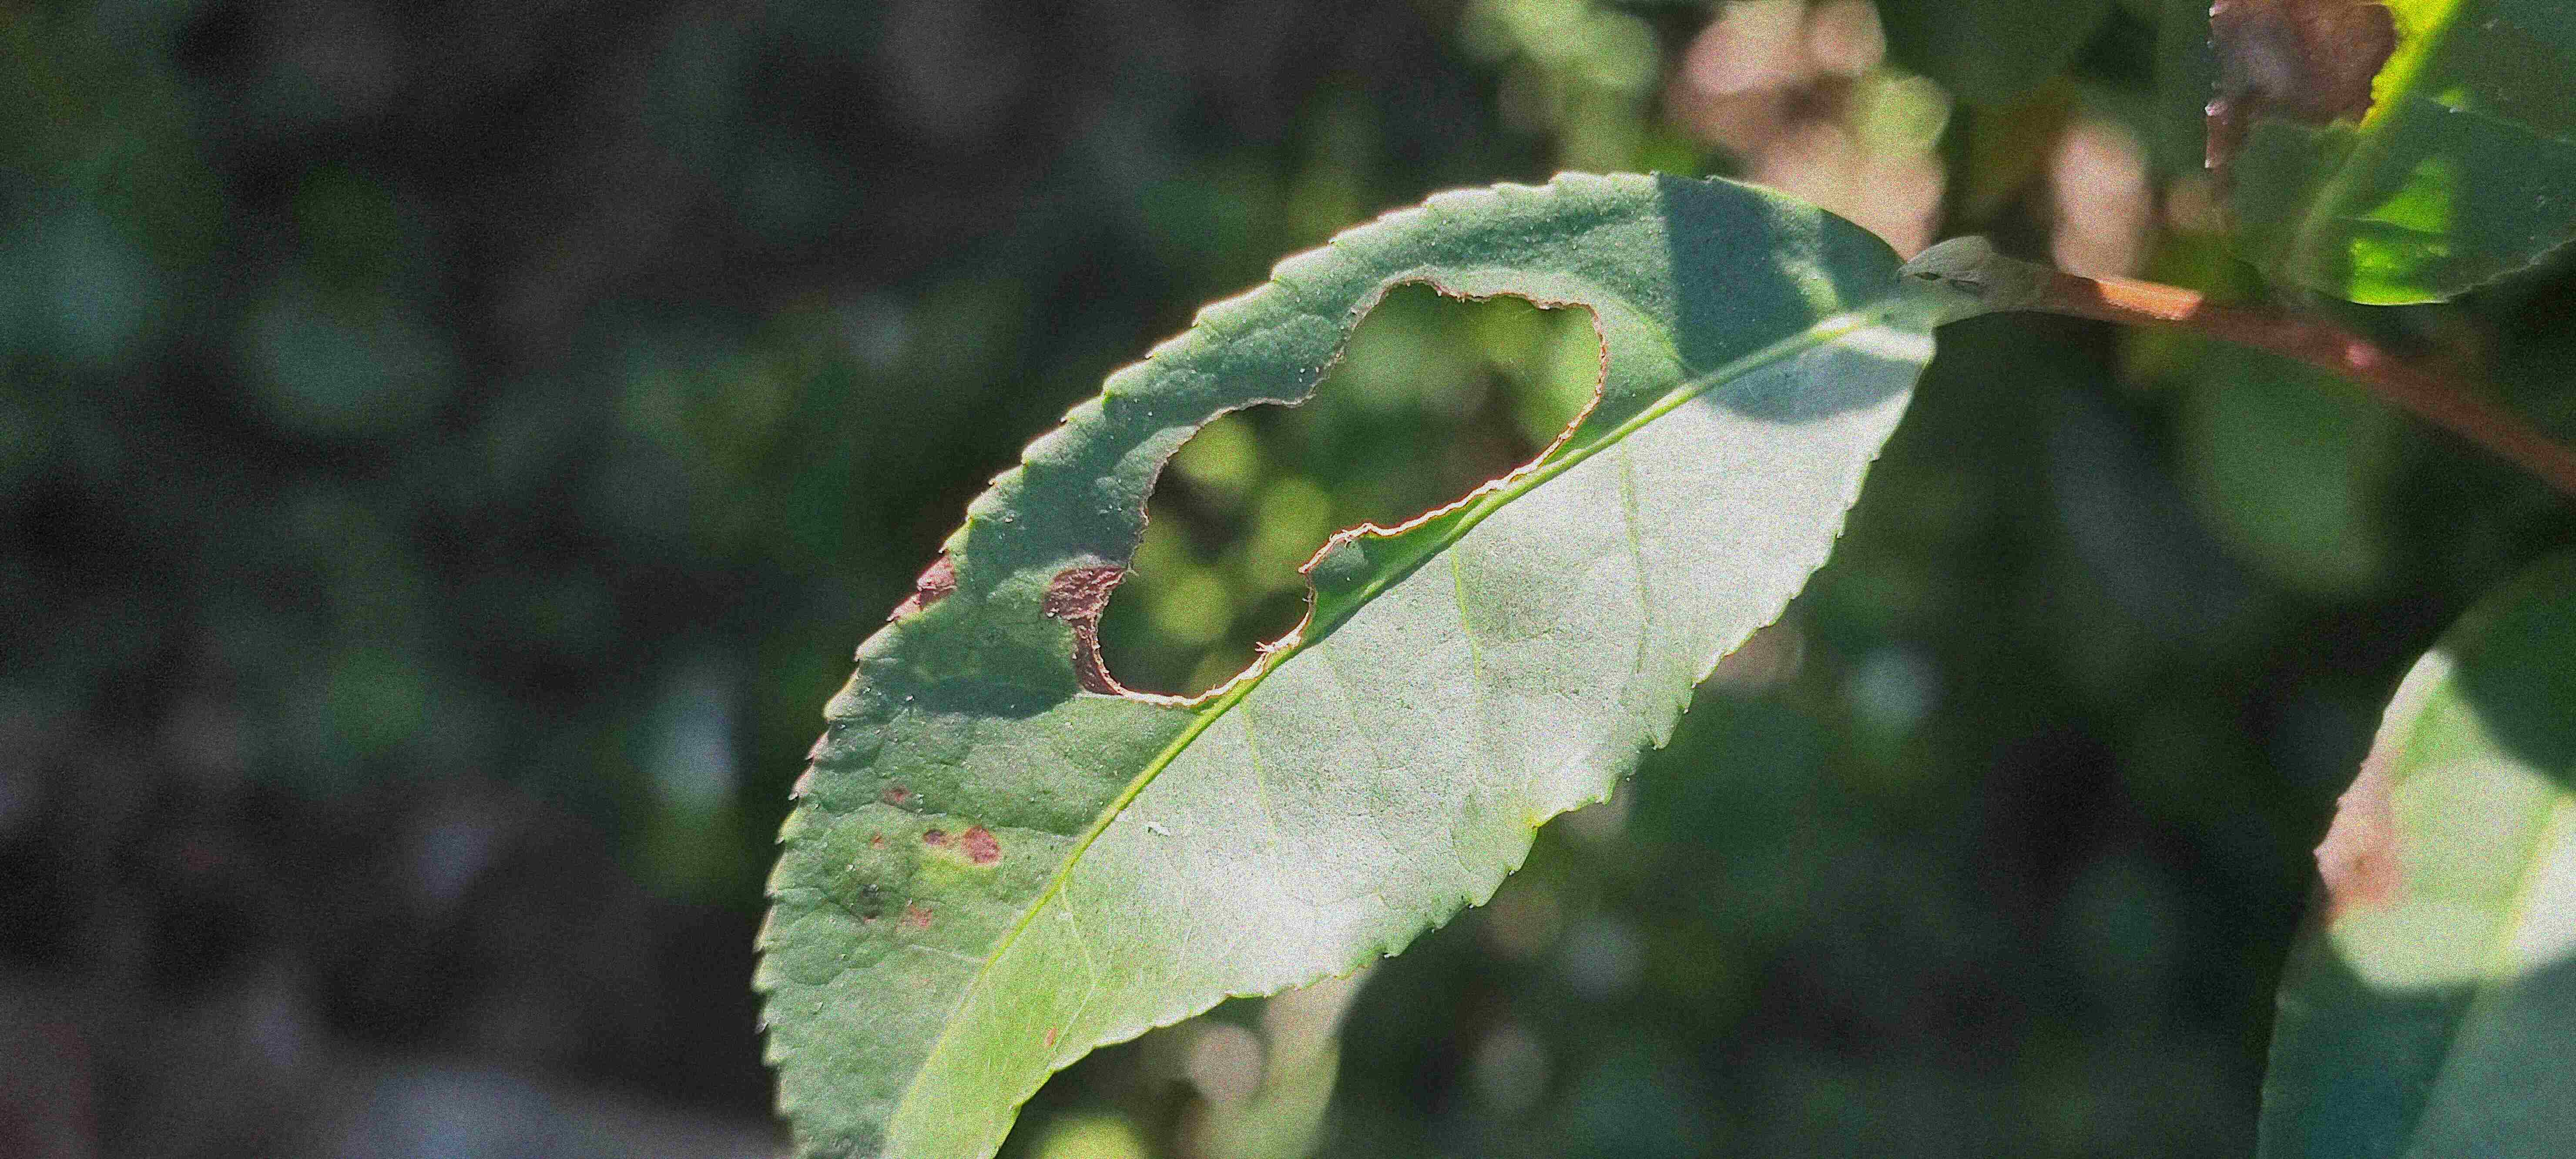chihuo_high: (747, 164, 1952, 1154)
